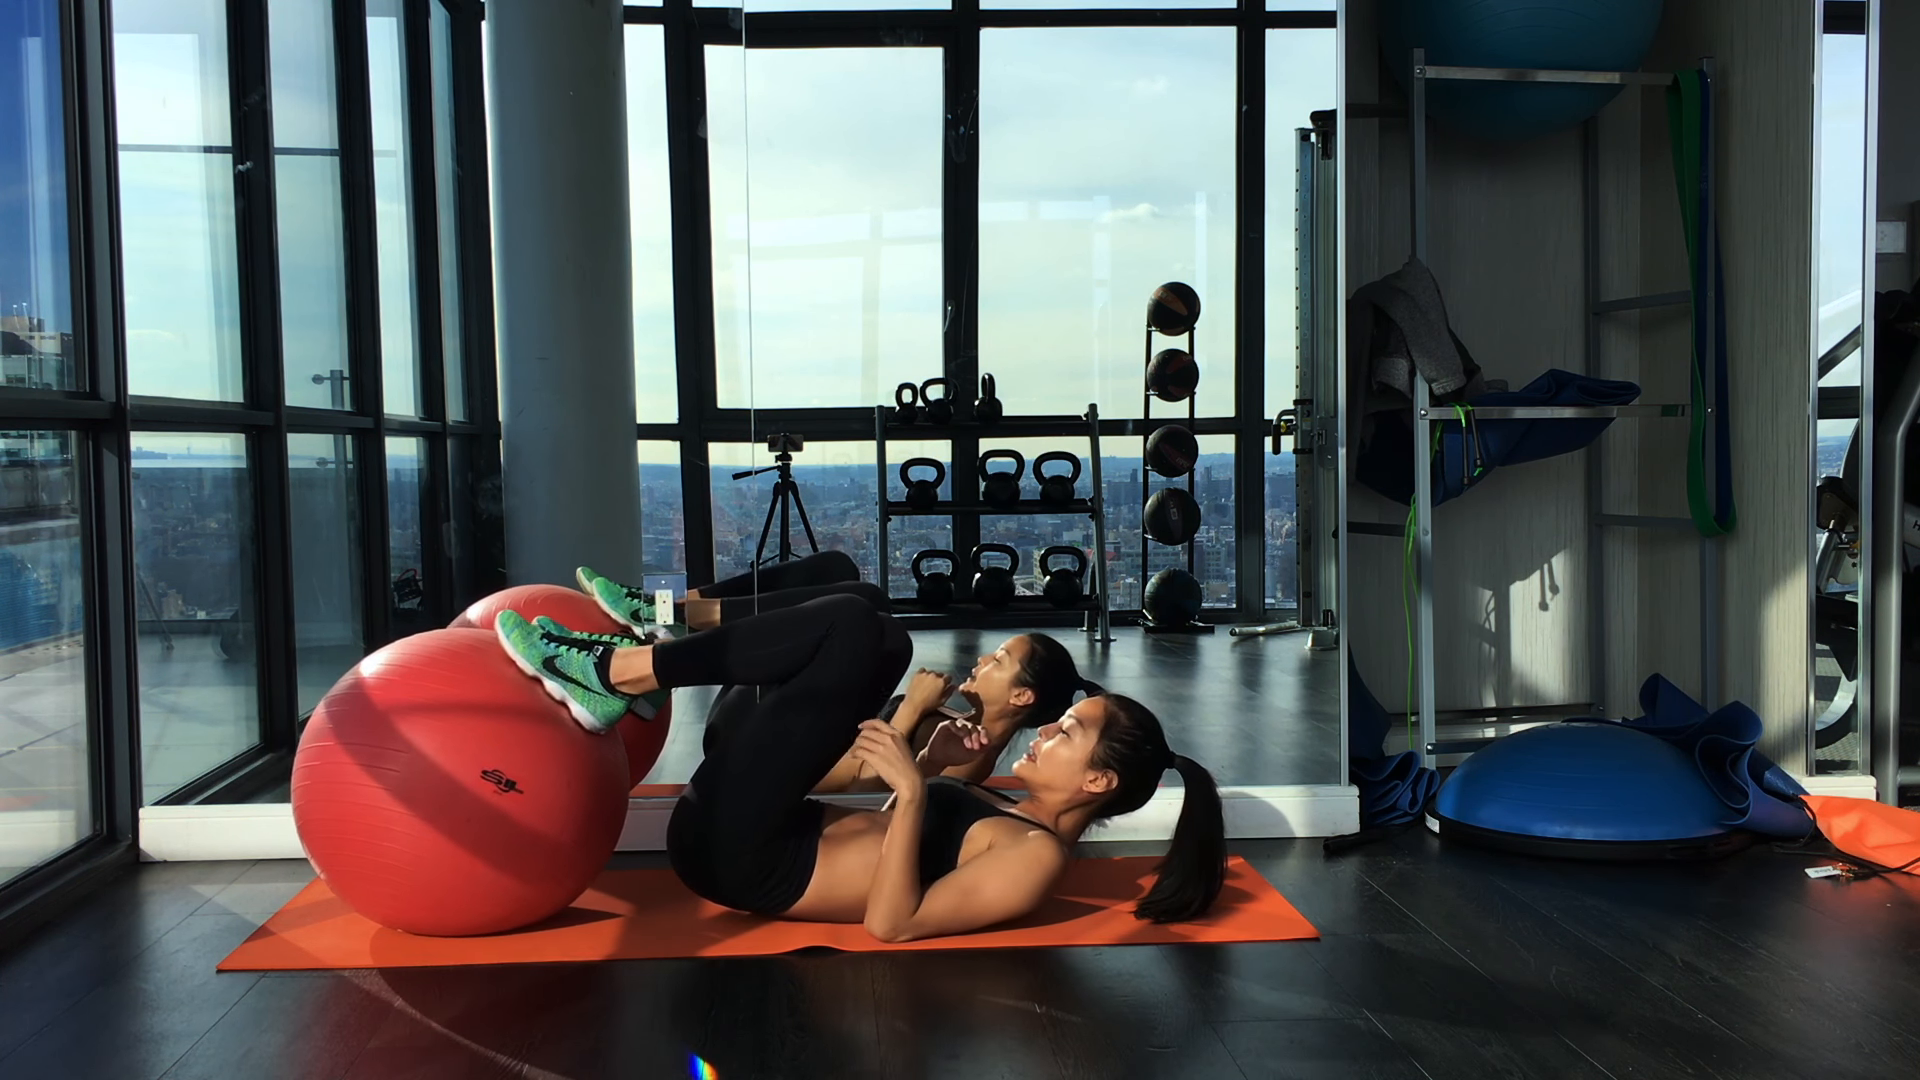yogaball: (273, 618, 649, 943)
